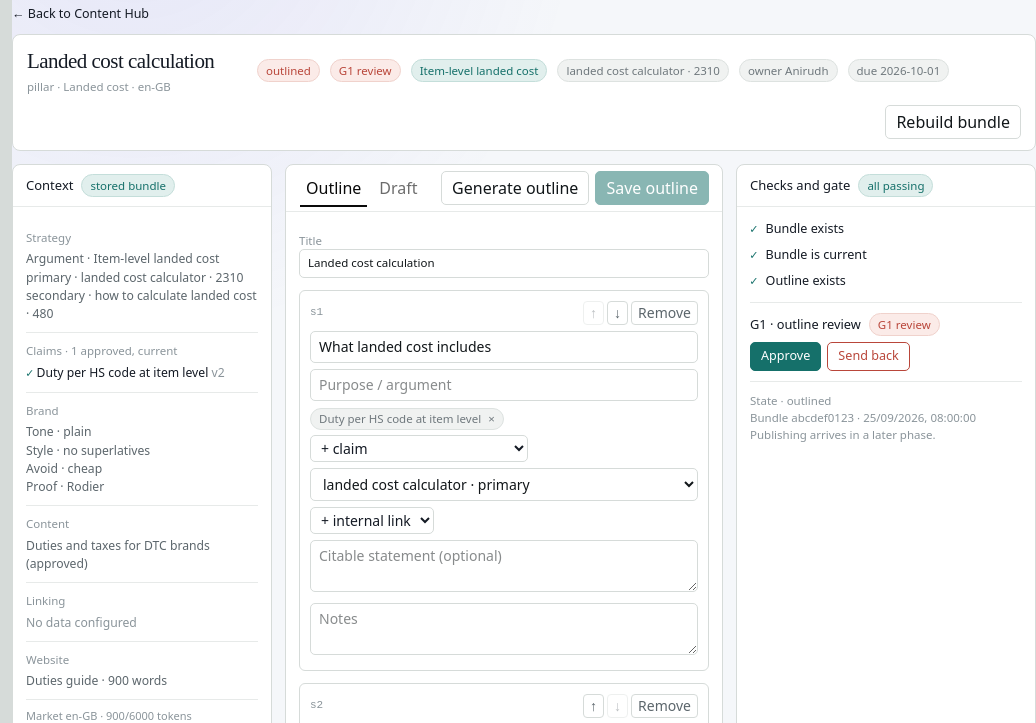
V3 G1 review and draft › requires feedback to send back and sends the typed reason
Expected: the heading "Landed cost calculation" is shown, [27, 46, 247, 78]
Click the button "Send back".
click(869, 356)  # box [827, 342, 910, 371]
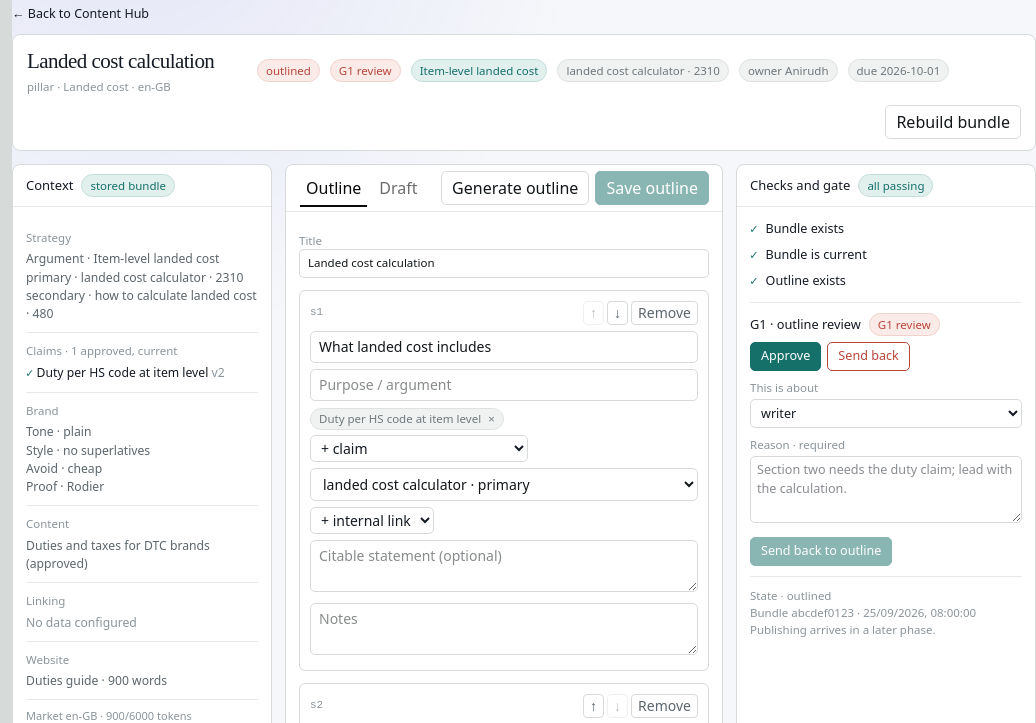
Expected: the button "Send back to outline" is disabled, [750, 537, 892, 566]
Select "claim" in the dropdown labelled "This is about" at (886, 414), box [750, 399, 1022, 428]
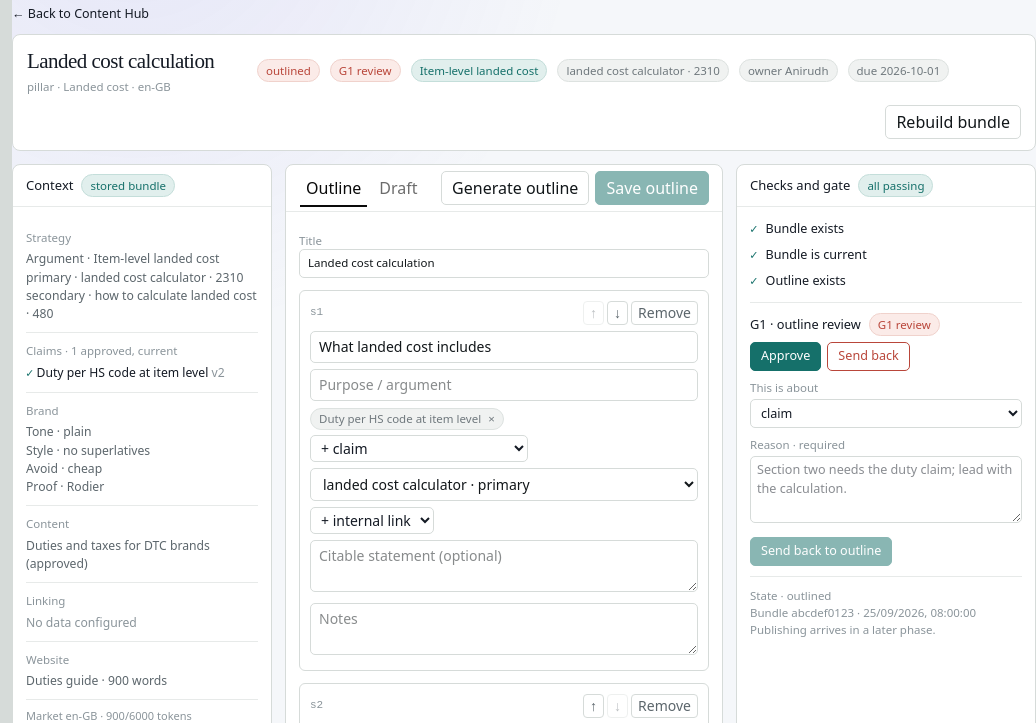
Type "  Needs the duty claim.  " into the text box labelled "Reason · required".
click(886, 490); type("  Needs the duty claim.  ")  # box [750, 456, 1022, 523]
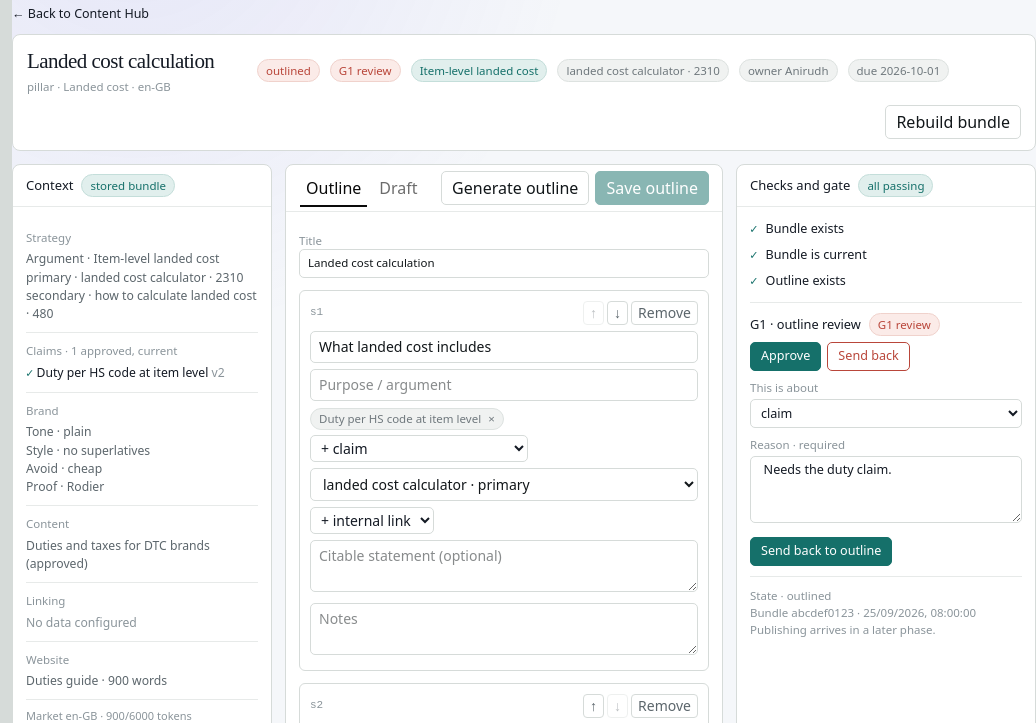
Click the button "Send back to outline".
click(821, 551)  # box [750, 537, 892, 566]
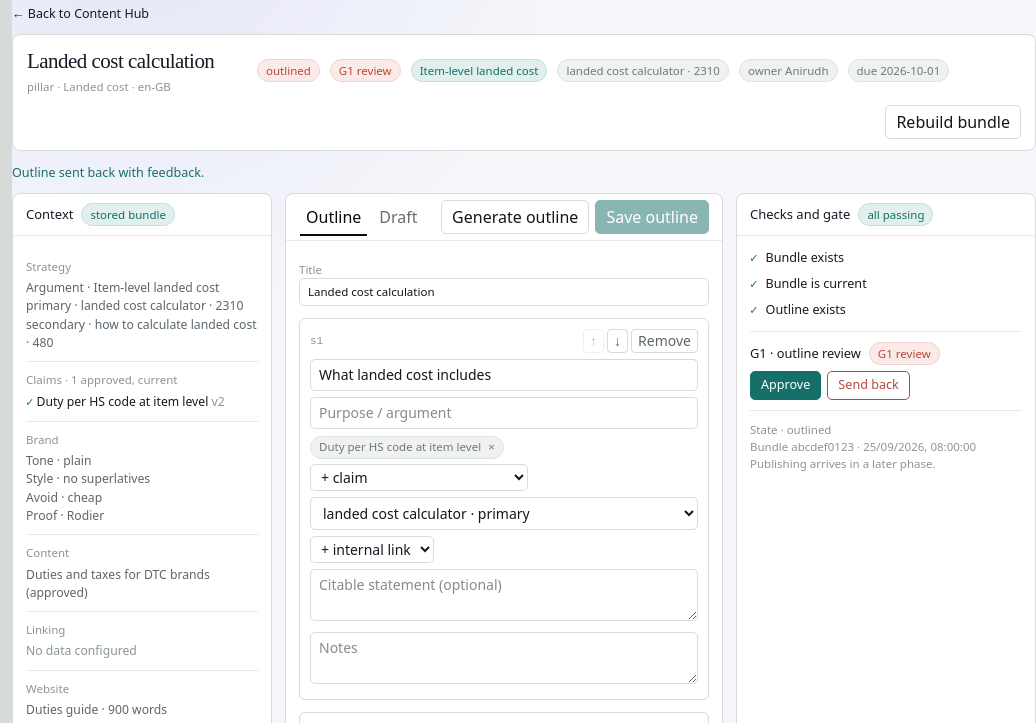
Expected: the text "Outline sent back with feedback." is shown, [12, 164, 204, 181]
